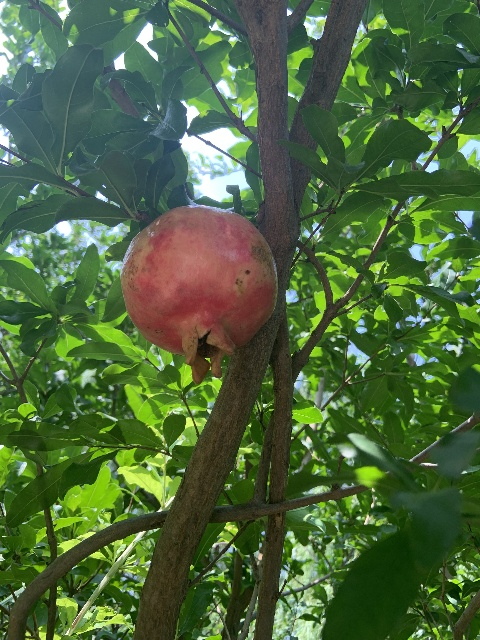ripe: (120, 206, 275, 383)
